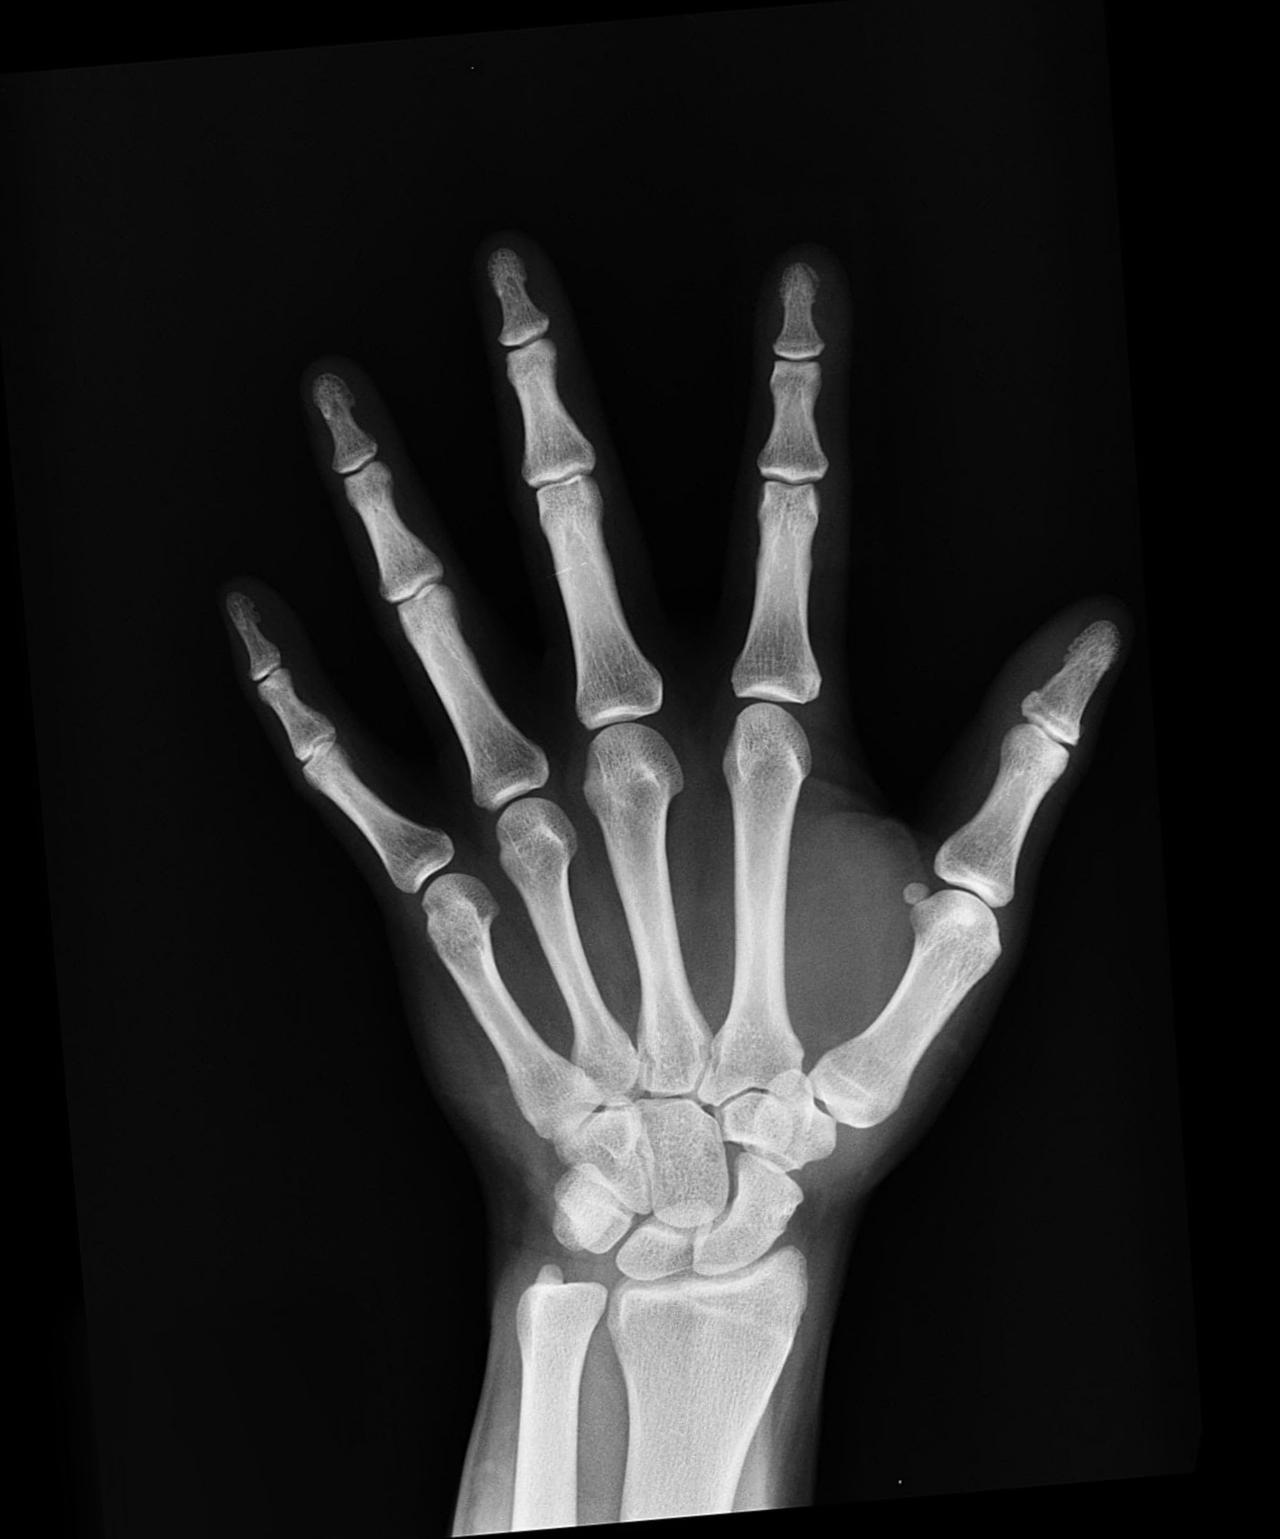fracture: (637, 1047, 660, 1090), (702, 1042, 726, 1072)
